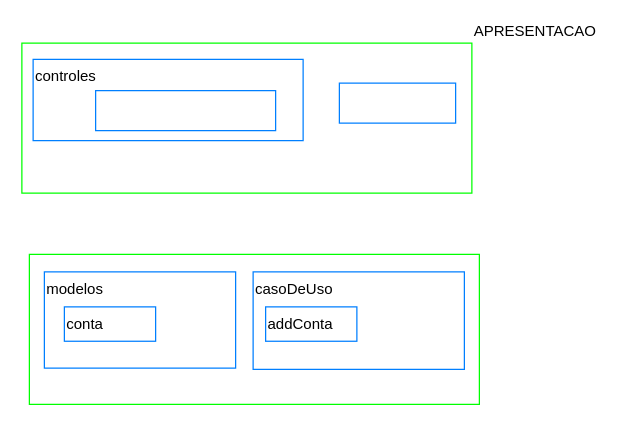
Some shapes in this 619 by 426 pixel diagram are drawn without their labels. Here are the shapes that lost their labels. From the top down, the box of each, then its label:
(94, 89, 276, 131): controle_do_casoDeUso
(338, 82, 456, 123): contratos
(28, 253, 479, 404): DOMINIO
